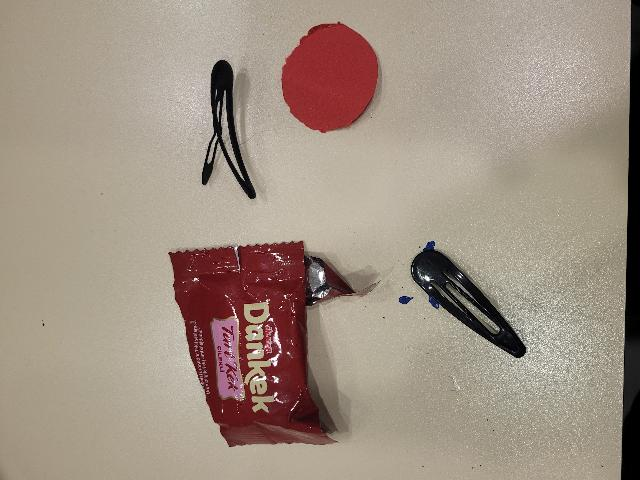Kagit: (283, 26, 380, 134)
Metal: (410, 245, 529, 360), (200, 62, 257, 201)
Plastik: (168, 245, 359, 449)
